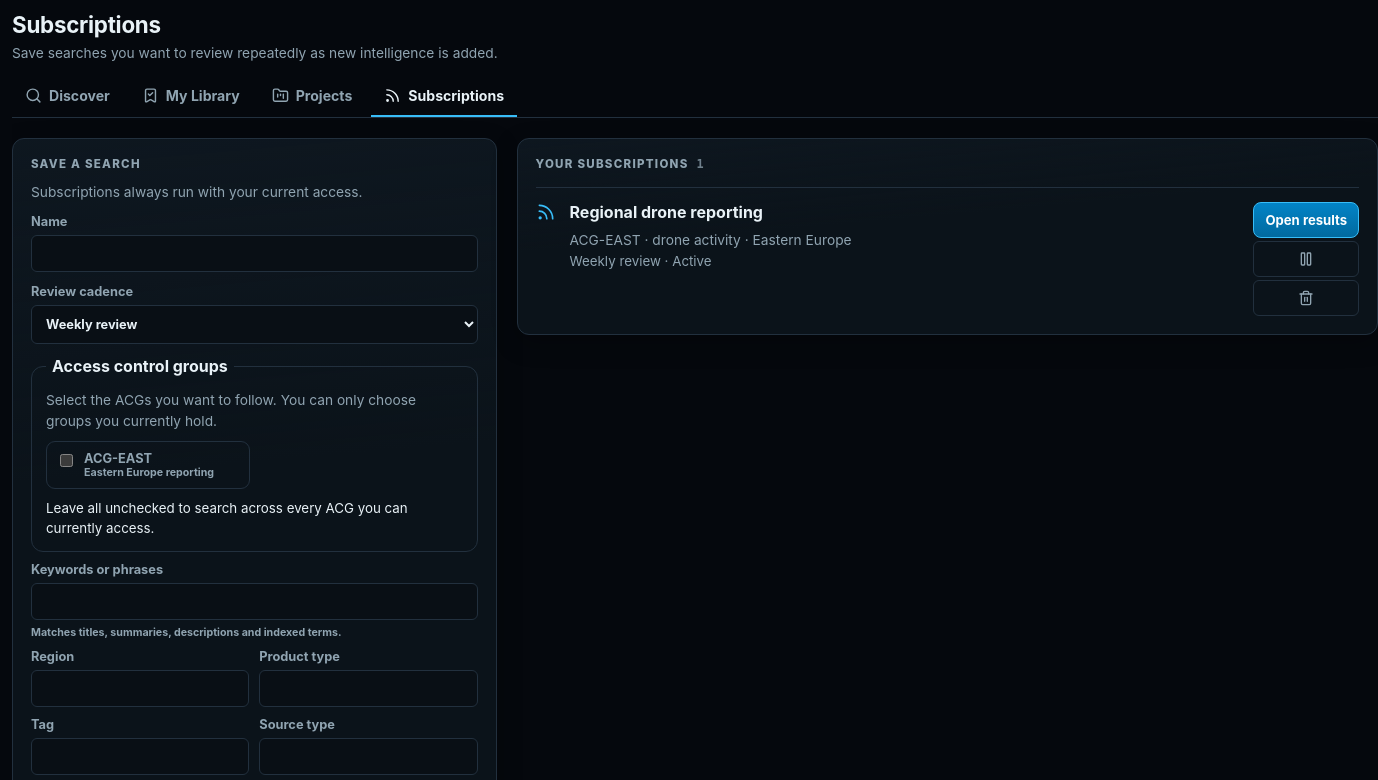
Test case: opens, pauses and deletes an existing subscription
Step 1. Click the button named "Pause Regional drone reporting" → click(1306, 258), box [1253,240,1359,276]
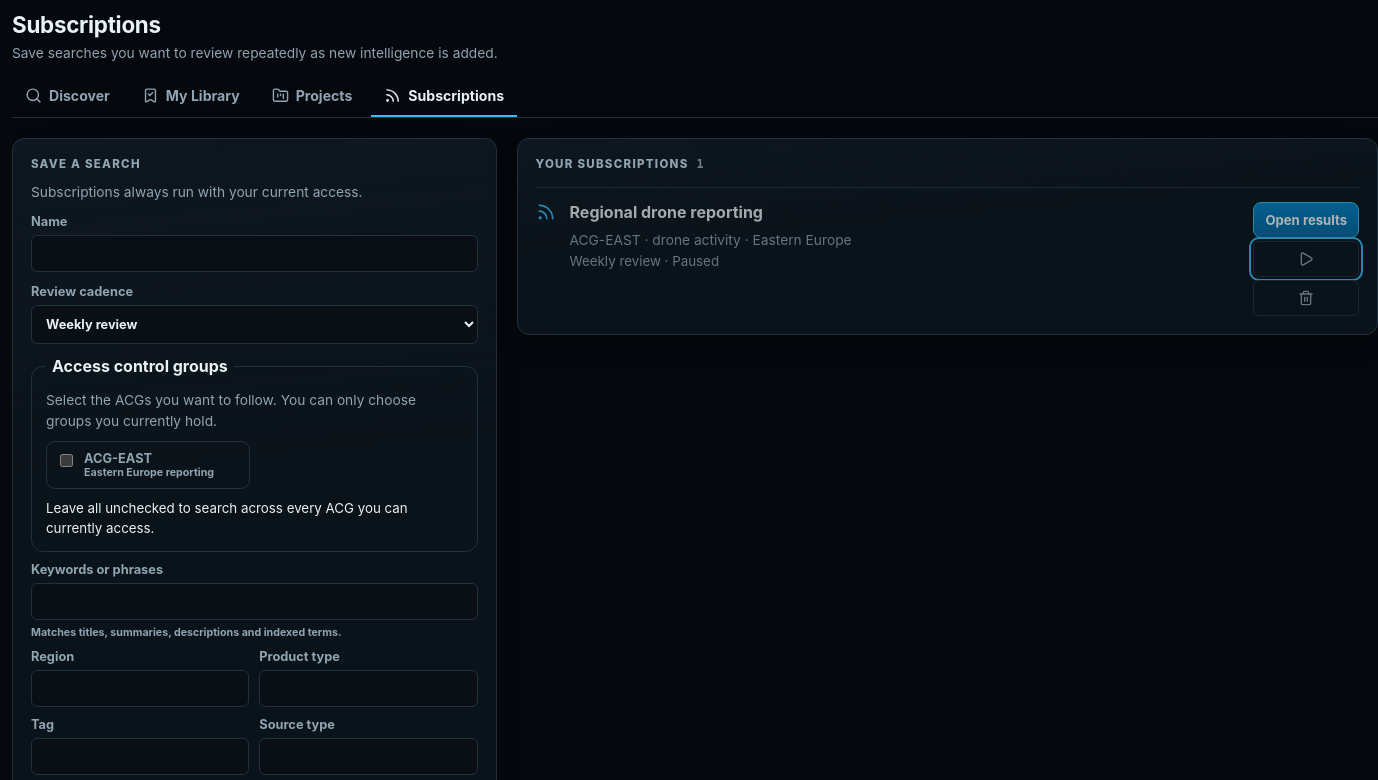
Check: the button named "Resume Regional drone reporting" is shown, box [1253,240,1359,276]
Step 2. Click the button named "Delete Regional drone reporting" → click(1306, 298), box [1253,280,1359,316]
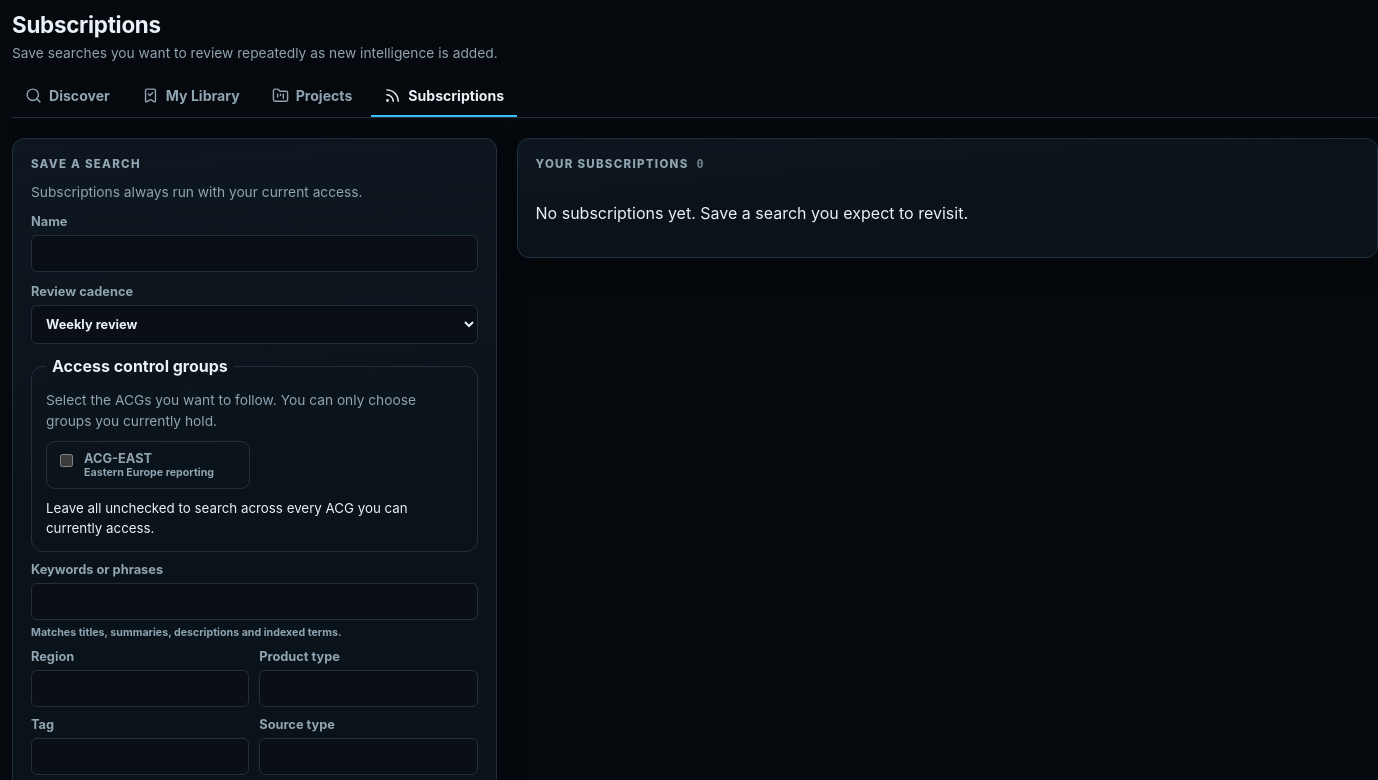
Check: the text "Regional drone reporting" is gone
